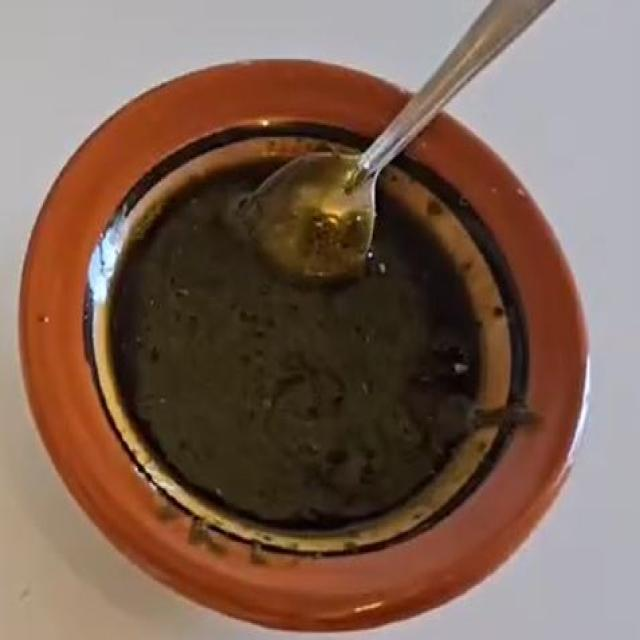Melloukhia: (60, 64, 564, 558)
